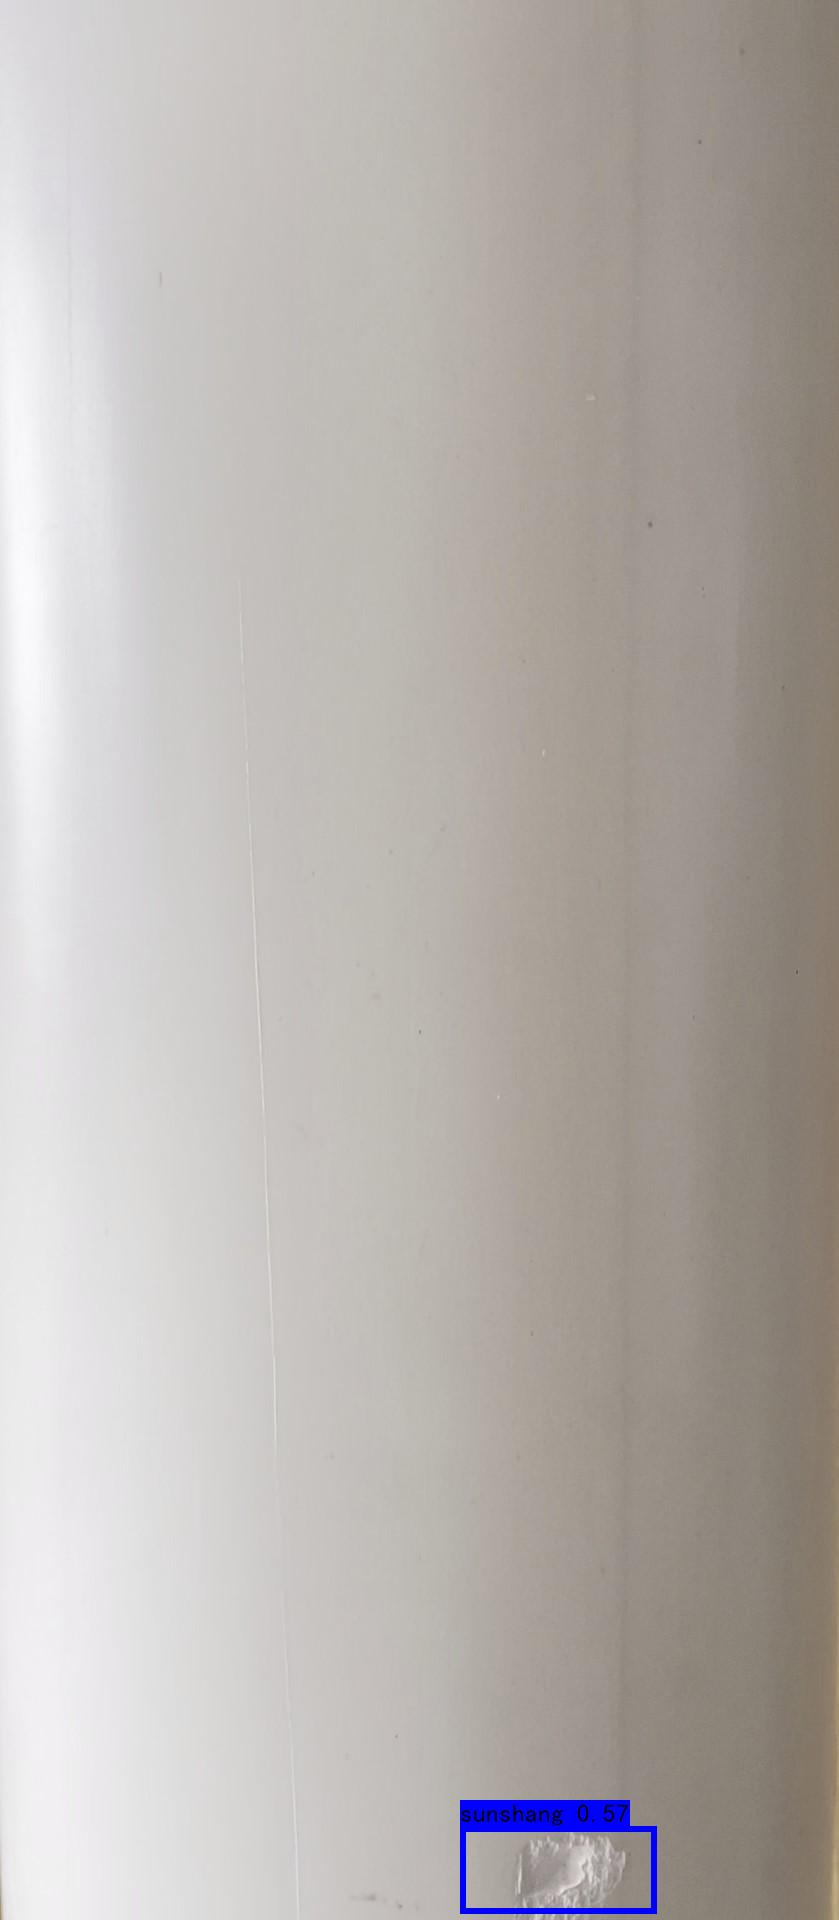sunshang: (503, 1813, 626, 1920)
